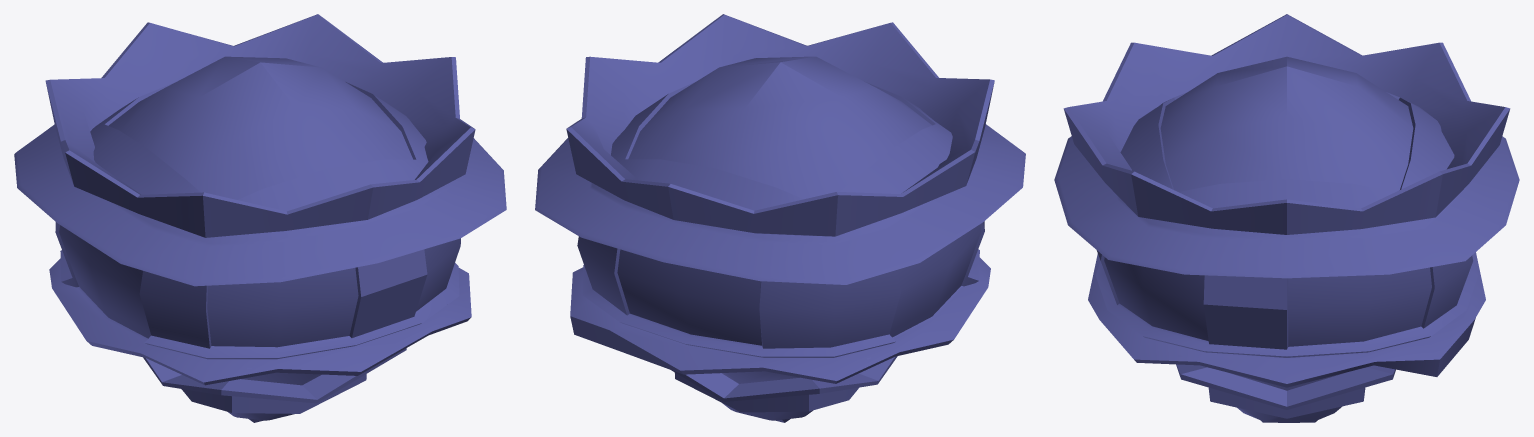
Rendered from casa01.fbx.
3 renders of one model, left to right at view 1: azimuth 30°, elevation 25°; view 2: azimuth 150°, elevation 25°; view 3: azimuth 270°, elevation 25°, orthographic.
Parts seen in each view (by area): view 1: Casa1; view 2: Casa1; view 3: Casa1.
Part boxes in pixels (<box>): Casa1: <box>14,14,506,422</box>; Casa1: <box>535,14,1025,422</box>; Casa1: <box>1054,14,1519,422</box>.
Size of the model in its own units: 444 by 362 by 444.
